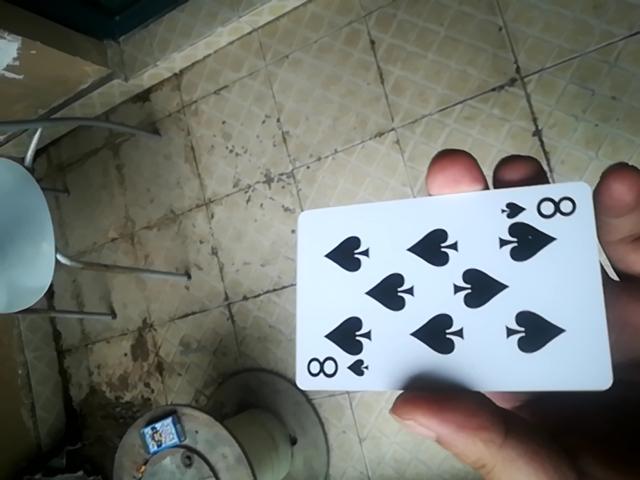ht 8: (291, 179, 620, 401)
